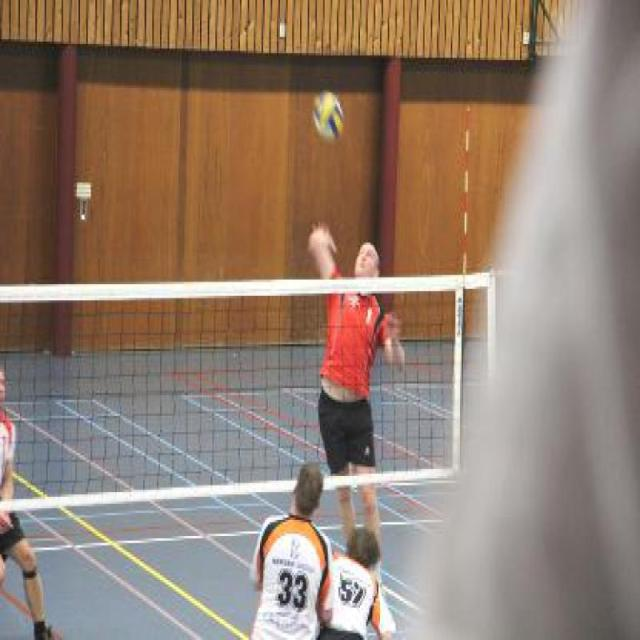volleyball: (312, 86, 344, 140)
